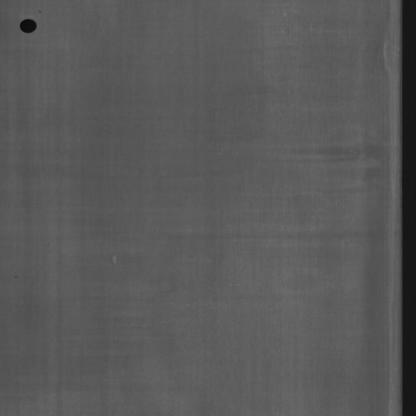punching_hole: (15, 12, 43, 40)
